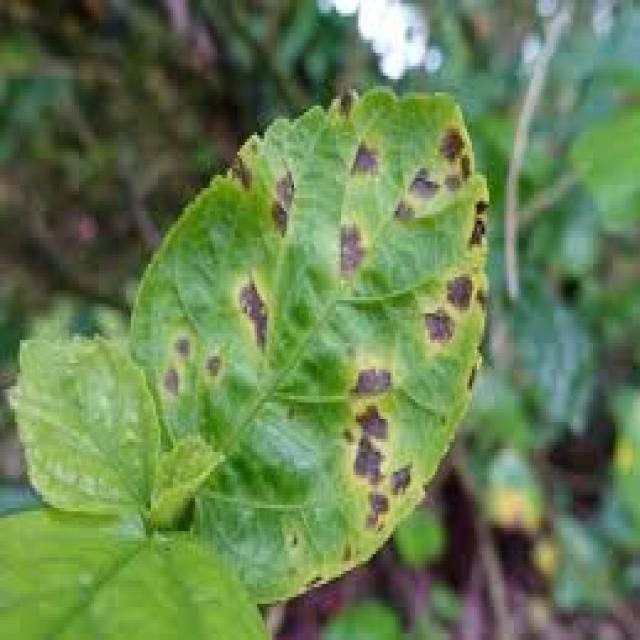Bacterial Spot: (230, 149, 440, 531)
